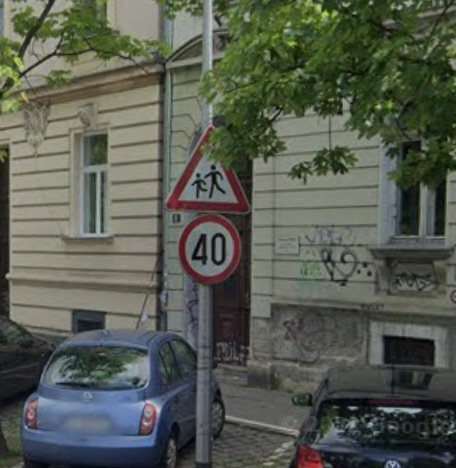Ograničenje brzine 40: (179, 214, 241, 285)
